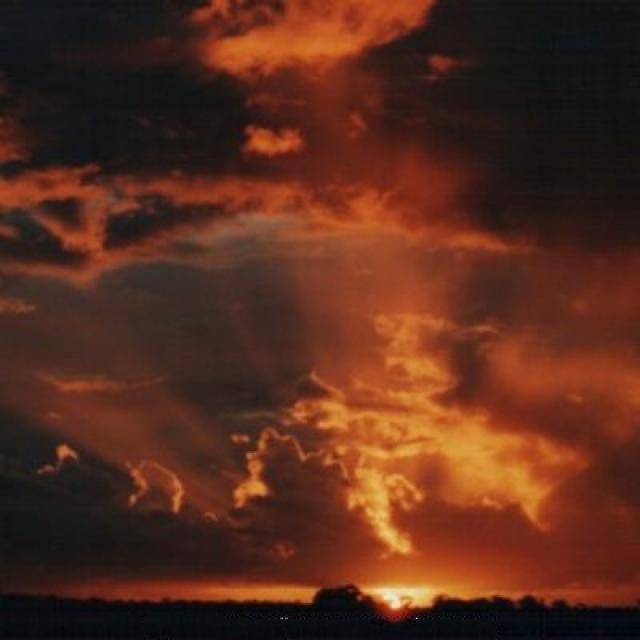As: (6, 65, 640, 481)
